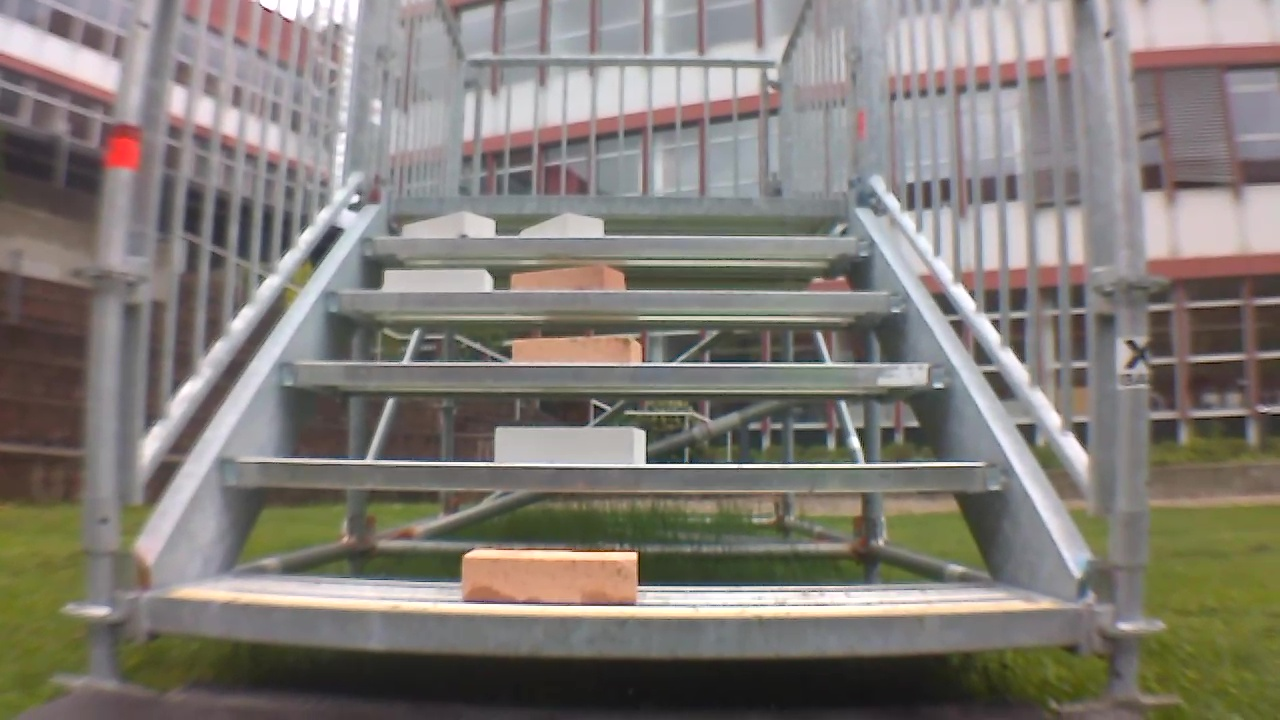brick: (462, 550, 636, 605), (497, 428, 645, 464), (513, 336, 642, 365), (511, 265, 624, 291), (384, 269, 492, 292), (403, 212, 495, 236), (522, 213, 604, 237)
edge: (146, 598, 1078, 657), (226, 462, 1005, 491), (281, 362, 950, 389), (322, 289, 905, 312), (364, 237, 875, 257), (390, 196, 847, 216)
stairs: (62, 1, 1163, 698)
steps: (135, 191, 1083, 669)
